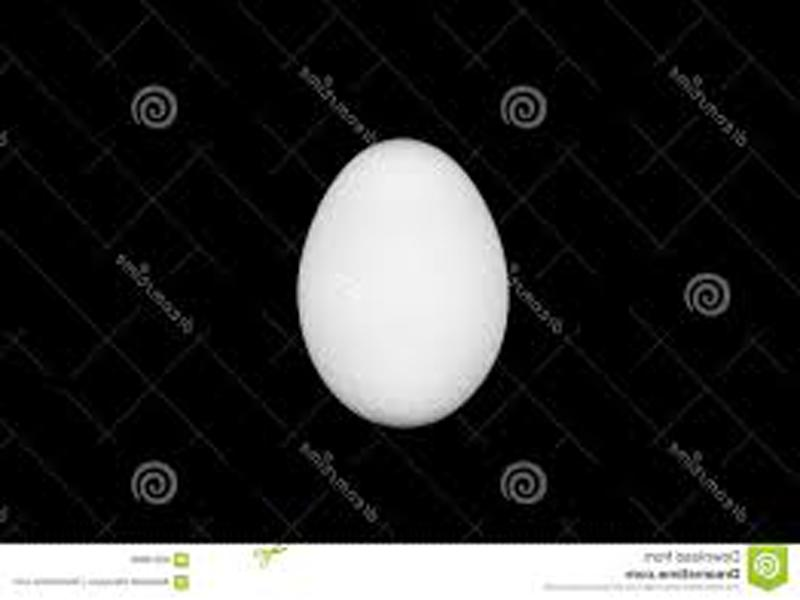Eggs: (292, 140, 506, 426)
